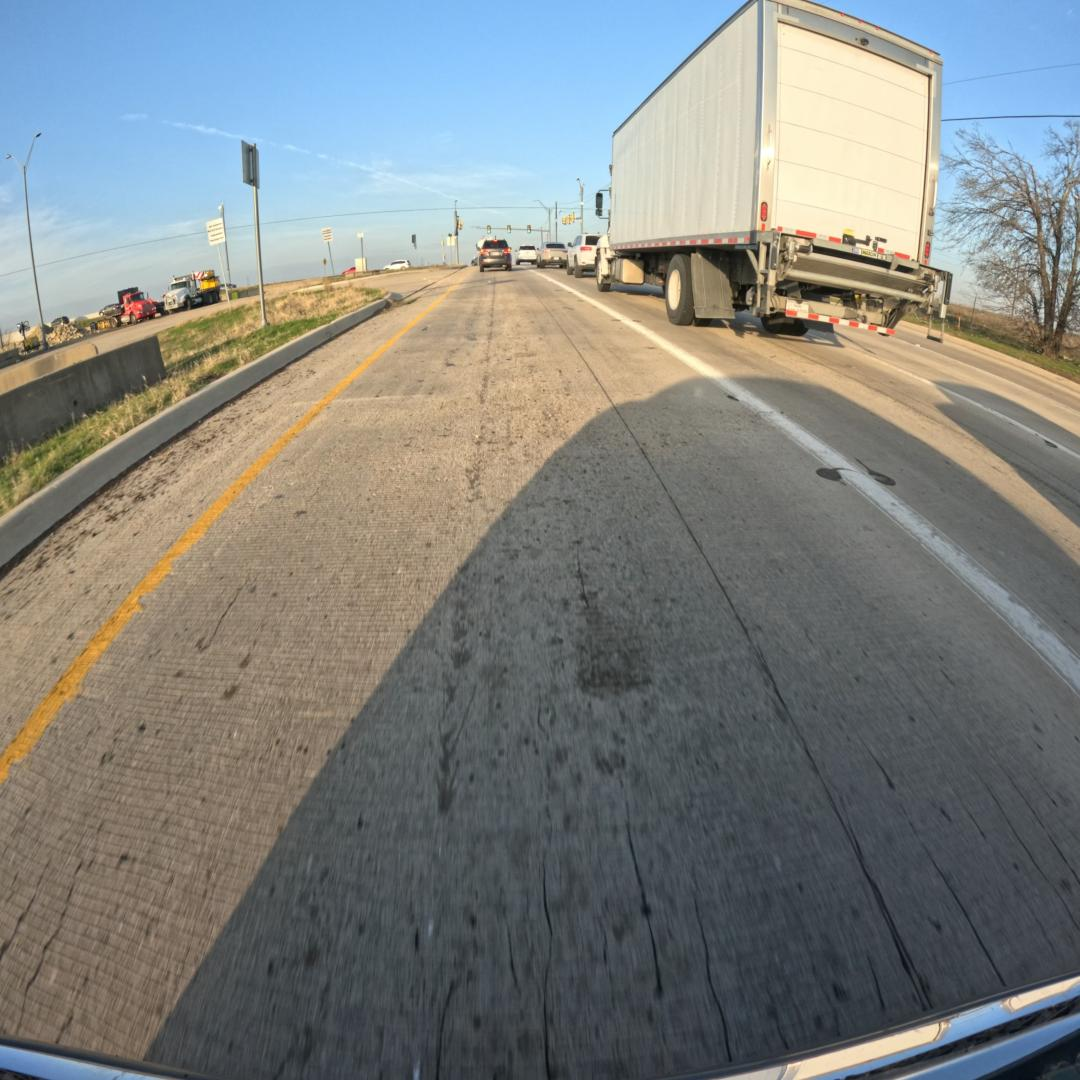lane-1: (544, 271, 1080, 654)
lane0: (0, 272, 1080, 1080)
